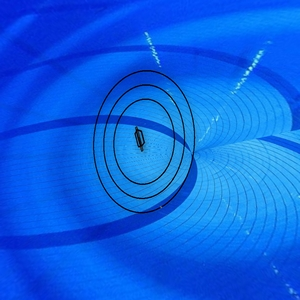circle: (89, 67, 200, 219)
submarine: (130, 123, 151, 157)
